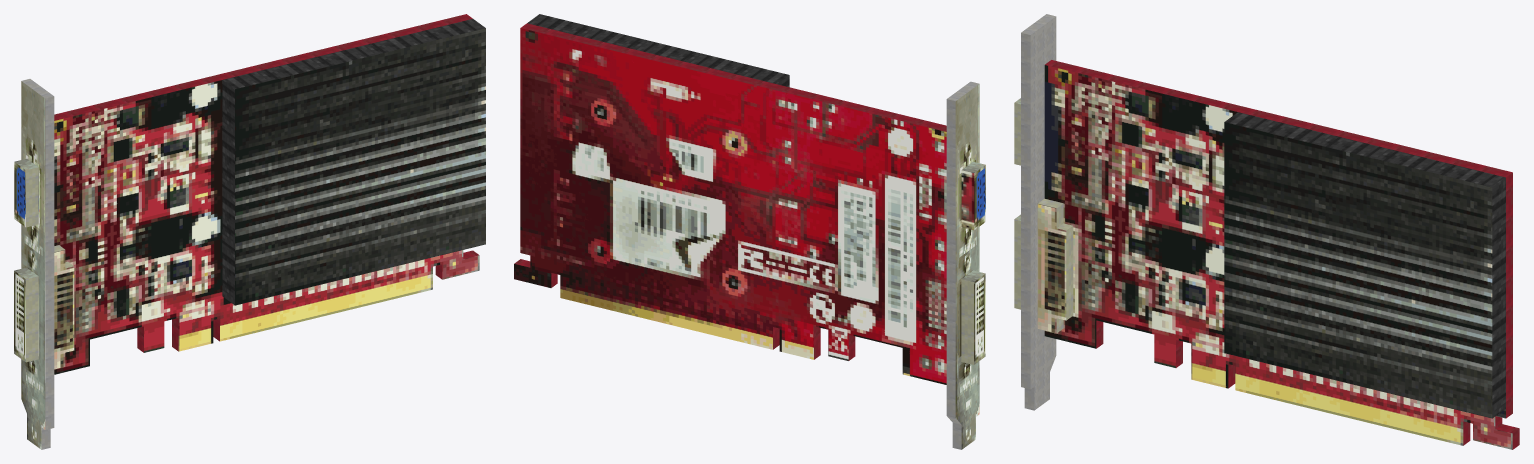
The model's file is nvidia_gf210_low_poly_psx.glb.
The picture shows the model from 3 angles, left to right: view 1: azimuth 30°, elevation 25°; view 2: azimuth 150°, elevation 25°; view 3: azimuth 330°, elevation 25°; orthographic projection. The views are drawn at different scales.
Parts seen in each view (by area): view 1: 3DGeom-2_5, 3DGeom-5_8, 3DGeom-9_13, 3DGeom-3_6, 3DGeom-8_12, 3DGeom-1_4, 3DGeom-10_14; view 2: 3DGeom-5_8, 3DGeom-9_13, 3DGeom-1_4, 3DGeom-8_12, 3DGeom-3_6, 3DGeom-10_14; view 3: 3DGeom-2_5, 3DGeom-5_8, 3DGeom-8_12, 3DGeom-3_6, 3DGeom-1_4, 3DGeom-7_10, 3DGeom-10_14.
Part boxes in pixels (bbox=[...]): 3DGeom-2_5: bbox=[235, 28, 485, 305]; 3DGeom-5_8: bbox=[54, 80, 479, 374]; 3DGeom-9_13: bbox=[14, 81, 45, 449]; 3DGeom-3_6: bbox=[222, 19, 485, 305]; 3DGeom-8_12: bbox=[22, 79, 54, 449]; 3DGeom-1_4: bbox=[54, 14, 478, 352]; 3DGeom-10_14: bbox=[26, 167, 38, 362]; 3DGeom-5_8: bbox=[514, 28, 946, 384]; 3DGeom-9_13: bbox=[955, 84, 985, 449]; 3DGeom-1_4: bbox=[514, 23, 946, 360]; 3DGeom-8_12: bbox=[946, 81, 979, 449]; 3DGeom-3_6: bbox=[527, 14, 789, 87]; 3DGeom-10_14: bbox=[961, 279, 973, 364]; 3DGeom-2_5: bbox=[1224, 122, 1492, 418]; 3DGeom-5_8: bbox=[1037, 65, 1512, 449]; 3DGeom-8_12: bbox=[1021, 14, 1056, 410]; 3DGeom-3_6: bbox=[1225, 112, 1505, 418]; 3DGeom-1_4: bbox=[1045, 60, 1519, 449]; 3DGeom-7_10: bbox=[1038, 198, 1073, 332]; 3DGeom-10_14: bbox=[1014, 103, 1020, 309].
Bounding box in the file's own units: 0.1449 × 0.1065 × 0.0131.
Materials: 8 (7 with a texture image).
